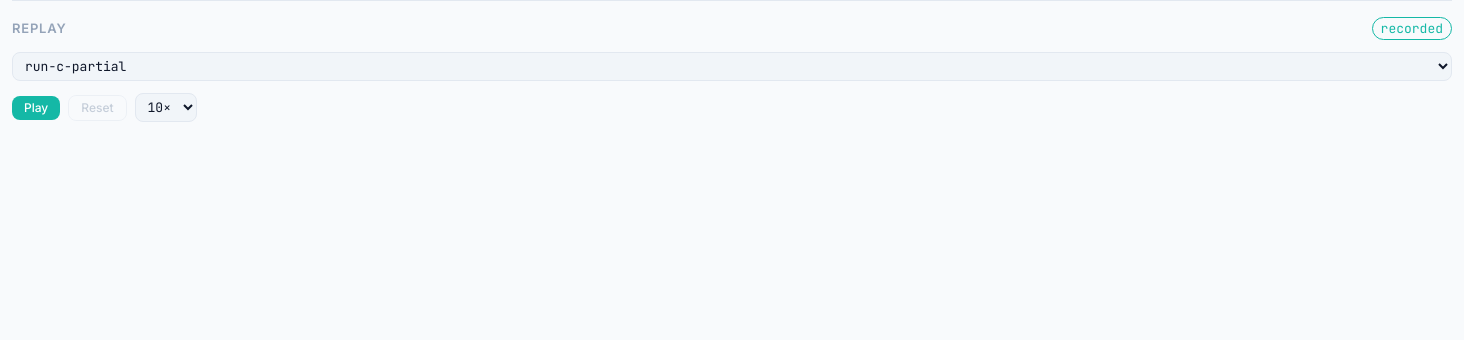
ReplayPanel scrubber › replays a complete recorded Scenario C through paid and reversed offline
Select "run-c-complete" in the dropdown named "Recording". click: (732, 67)
box: top-left (12, 52), bottom-right (1452, 81)
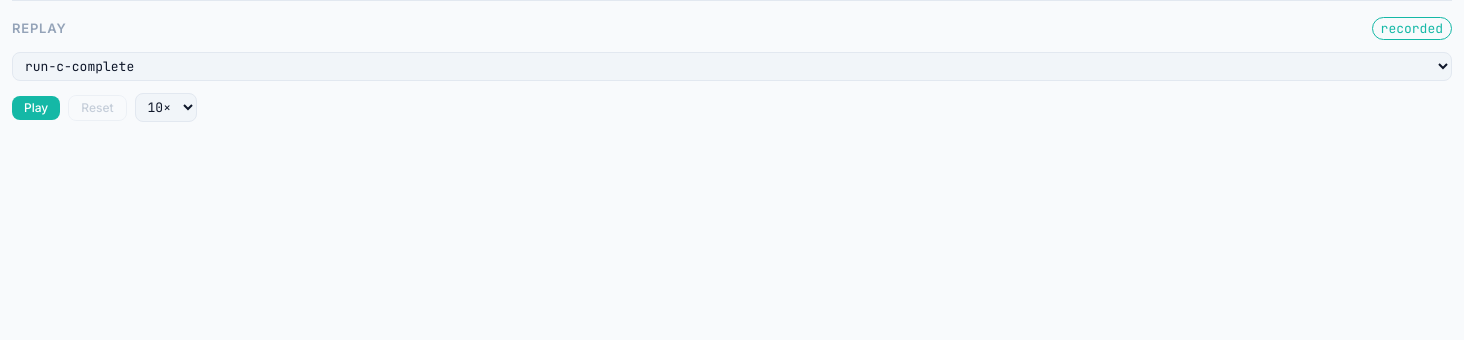
Click the button "Play". click: (36, 108)
box: top-left (12, 96), bottom-right (60, 120)
Wait 250 ms
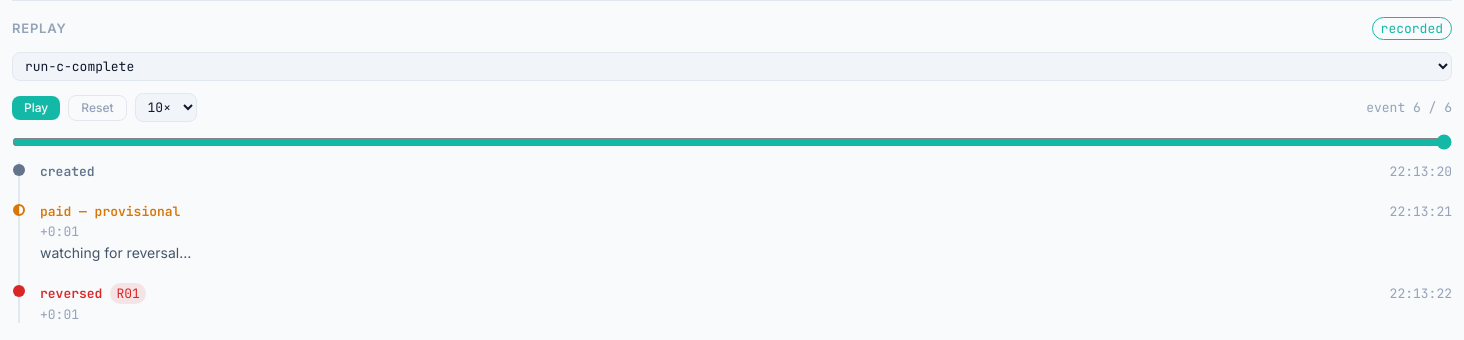
Now the text "paid — provisional" is shown, box top-left (40, 202), bottom-right (180, 221)
Now the text "reversed" is shown, box top-left (40, 284), bottom-right (102, 303)
Now the text "R01" is shown, box top-left (110, 283), bottom-right (146, 304)
